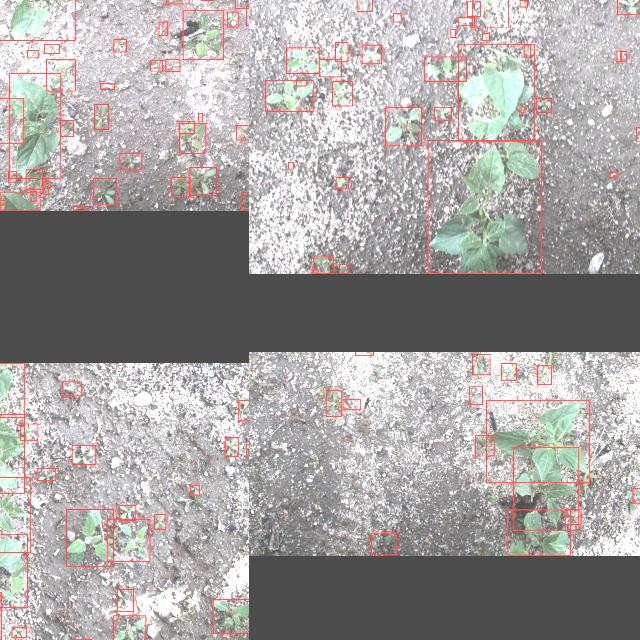crop: (428, 140, 542, 272), (486, 400, 590, 482), (458, 43, 534, 141), (513, 446, 579, 530), (10, 72, 60, 178), (0, 0, 75, 39), (508, 510, 570, 554), (0, 476, 30, 551), (0, 533, 27, 606), (0, 413, 24, 492), (0, 363, 24, 417), (472, 0, 507, 27), (0, 192, 40, 210), (74, 206, 88, 210)
weed: (66, 508, 114, 566), (182, 10, 224, 60), (106, 519, 150, 561), (264, 80, 314, 110), (384, 107, 422, 145), (213, 598, 249, 633), (0, 98, 24, 143), (424, 56, 466, 80), (46, 60, 76, 90), (286, 47, 320, 73), (114, 615, 146, 640), (180, 123, 206, 153), (190, 167, 217, 195), (93, 178, 117, 205), (372, 532, 396, 554), (333, 80, 353, 106), (72, 444, 96, 464), (362, 44, 382, 64), (319, 58, 341, 76), (94, 104, 108, 130), (326, 390, 340, 416), (171, 178, 191, 196), (313, 256, 333, 274), (476, 435, 494, 455), (472, 354, 490, 374), (120, 153, 142, 169), (117, 589, 133, 611), (20, 422, 38, 440), (26, 169, 42, 189), (536, 364, 552, 384), (617, 0, 640, 13), (62, 381, 82, 395), (225, 436, 238, 456), (120, 504, 136, 520), (565, 508, 581, 524), (434, 106, 452, 120), (502, 362, 516, 380), (336, 41, 348, 61), (36, 468, 56, 480), (60, 120, 74, 136), (536, 98, 552, 112), (238, 400, 249, 420), (470, 386, 482, 404), (235, 124, 249, 139), (468, 0, 480, 16), (343, 399, 361, 409), (180, 121, 194, 133), (114, 38, 126, 52), (166, 59, 180, 71), (154, 514, 166, 528), (12, 626, 26, 638), (357, 0, 372, 10), (241, 192, 249, 210), (336, 177, 348, 189), (228, 12, 238, 26), (158, 21, 168, 35), (44, 44, 60, 52), (458, 16, 474, 24), (150, 60, 162, 70), (632, 487, 640, 502), (339, 264, 349, 274), (190, 484, 200, 494), (100, 83, 114, 89), (524, 44, 530, 58), (8, 172, 16, 182), (28, 49, 38, 57), (393, 12, 401, 22), (29, 191, 36, 201), (482, 32, 490, 40), (296, 79, 306, 85), (636, 126, 640, 141), (44, 180, 48, 193), (450, 29, 456, 37), (519, 0, 526, 6), (246, 443, 249, 457), (617, 50, 621, 60), (622, 50, 626, 60), (198, 112, 202, 121), (288, 162, 294, 168), (0, 199, 5, 204), (610, 172, 616, 176), (521, 106, 525, 112), (313, 269, 317, 273)
